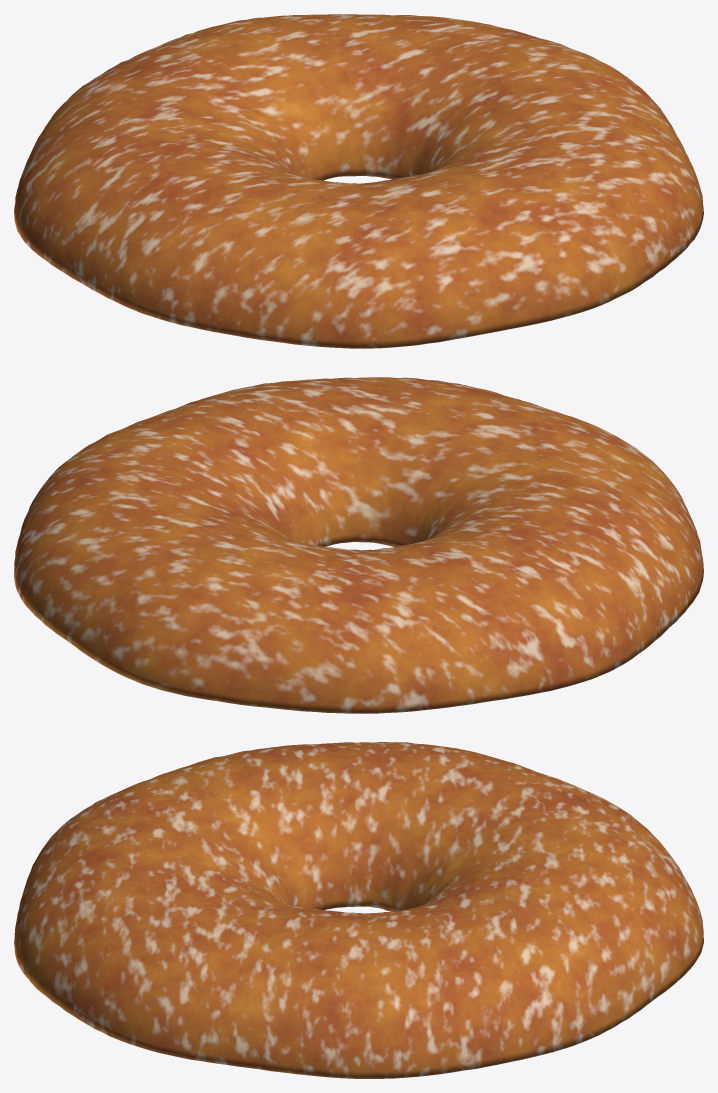
Rendered from dona-top.glb.
The picture shows the model from 3 angles, top to bottom: view 1: azimuth 30°, elevation 25°; view 2: azimuth 150°, elevation 25°; view 3: azimuth 270°, elevation 25°; orthographic projection.
Parts seen in each view (by area): view 1: dona-top; view 2: dona-top; view 3: dona-top.
Boxes of the visible parts, x1,y1,x2,y2 form: dona-top: (14, 14, 703, 348); dona-top: (14, 377, 703, 713); dona-top: (14, 742, 703, 1078).
Size of the model in its own units: 2.27 by 0.3163 by 2.27.
Materials: 1 (1 with a texture image).
